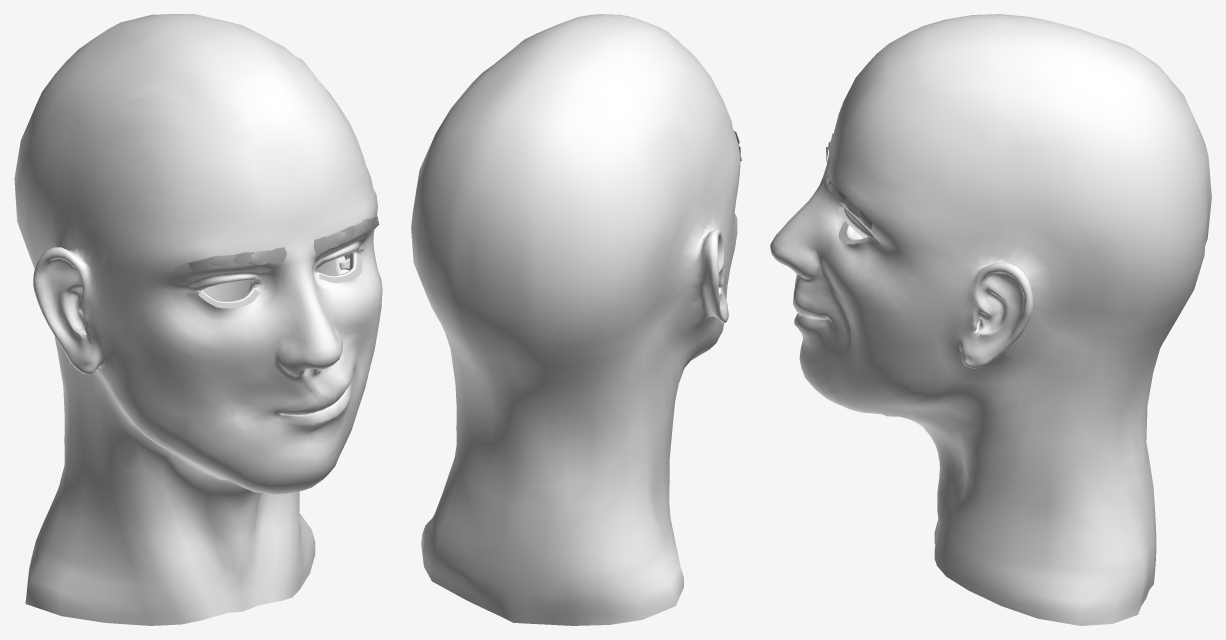
File: mouthLeft.obj
3 renders of one model, left to right at view 1: azimuth 30°, elevation 25°; view 2: azimuth 150°, elevation 25°; view 3: azimuth 270°, elevation 25°, orthographic. The views are drawn at different scales.
Visible parts, largest first — view 1: FaceMesh_Plane.003; view 2: FaceMesh_Plane.003; view 3: FaceMesh_Plane.003.
Boxes of the visible parts, x1,y1,x2,y2 form: FaceMesh_Plane.003: [14, 14, 382, 625]; FaceMesh_Plane.003: [411, 14, 741, 625]; FaceMesh_Plane.003: [770, 14, 1211, 625].
Size of the model in its own units: 1.54 by 2.71 by 1.94.
5 materials, 1 textured.
